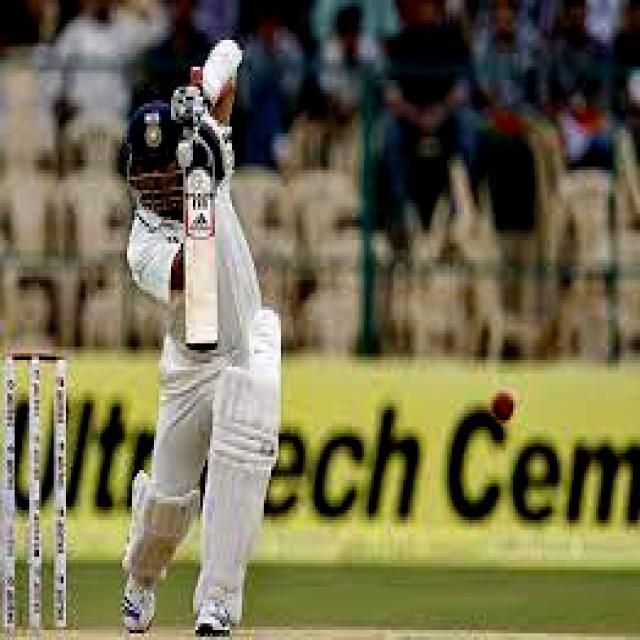toe: (174, 333, 230, 358)
